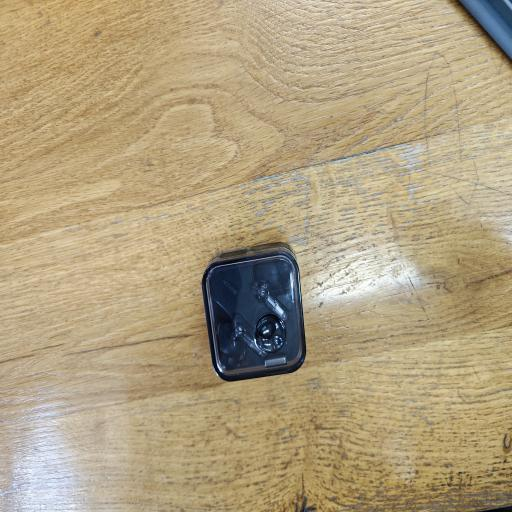Headphones: (197, 238, 317, 388)
